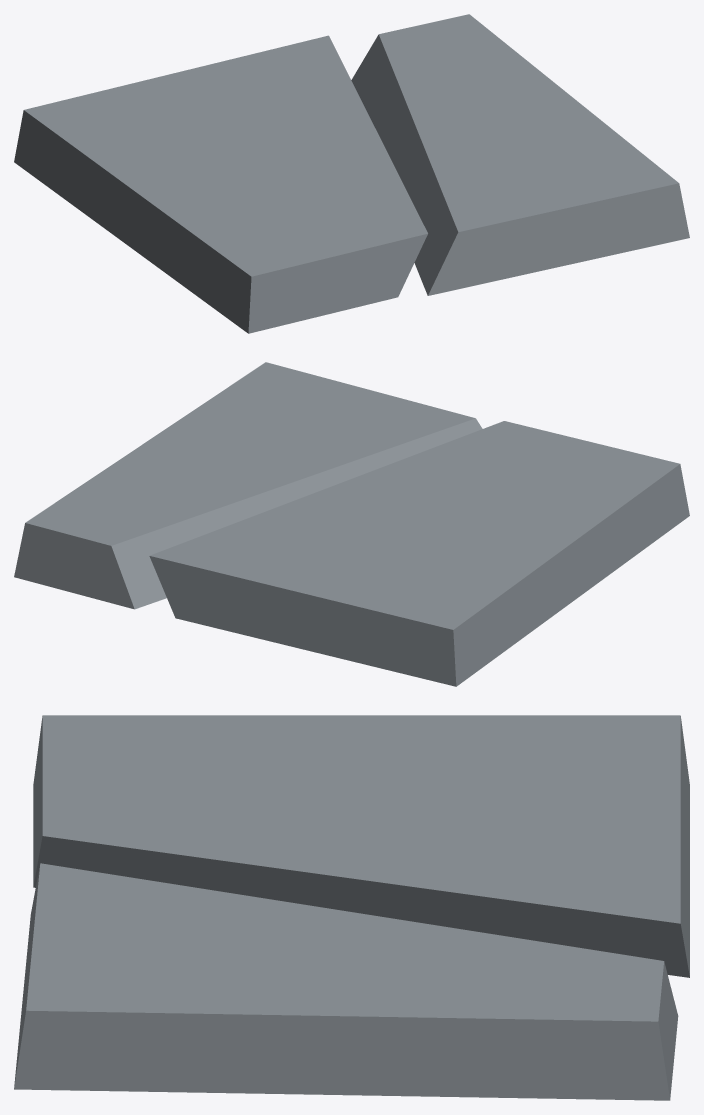
Rendered from Rock_Tile_crk_m_01.fbx.
3 views of the same model, one above another, from view 1: azimuth 30°, elevation 25°; view 2: azimuth 150°, elevation 25°; view 3: azimuth 270°, elevation 25° (orthographic). The views are drawn at different scales.
Parts seen in each view (by area): view 1: Rock_Tile_crk_m_01; view 2: Rock_Tile_crk_m_01; view 3: Rock_Tile_crk_m_01.
Part boxes in pixels (bbox=[...]): Rock_Tile_crk_m_01: bbox=[14, 14, 689, 333]; Rock_Tile_crk_m_01: bbox=[14, 362, 689, 686]; Rock_Tile_crk_m_01: bbox=[14, 715, 689, 1100].
Bounding box in the file's own units: 44.43 × 5.49 × 41.18.
